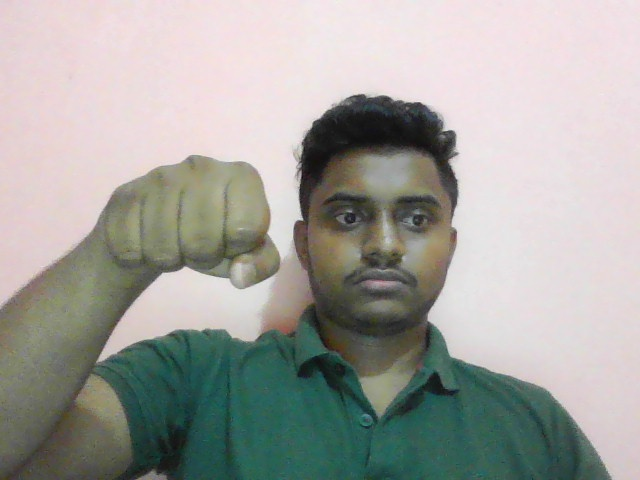Yes: (96, 142, 286, 293)
